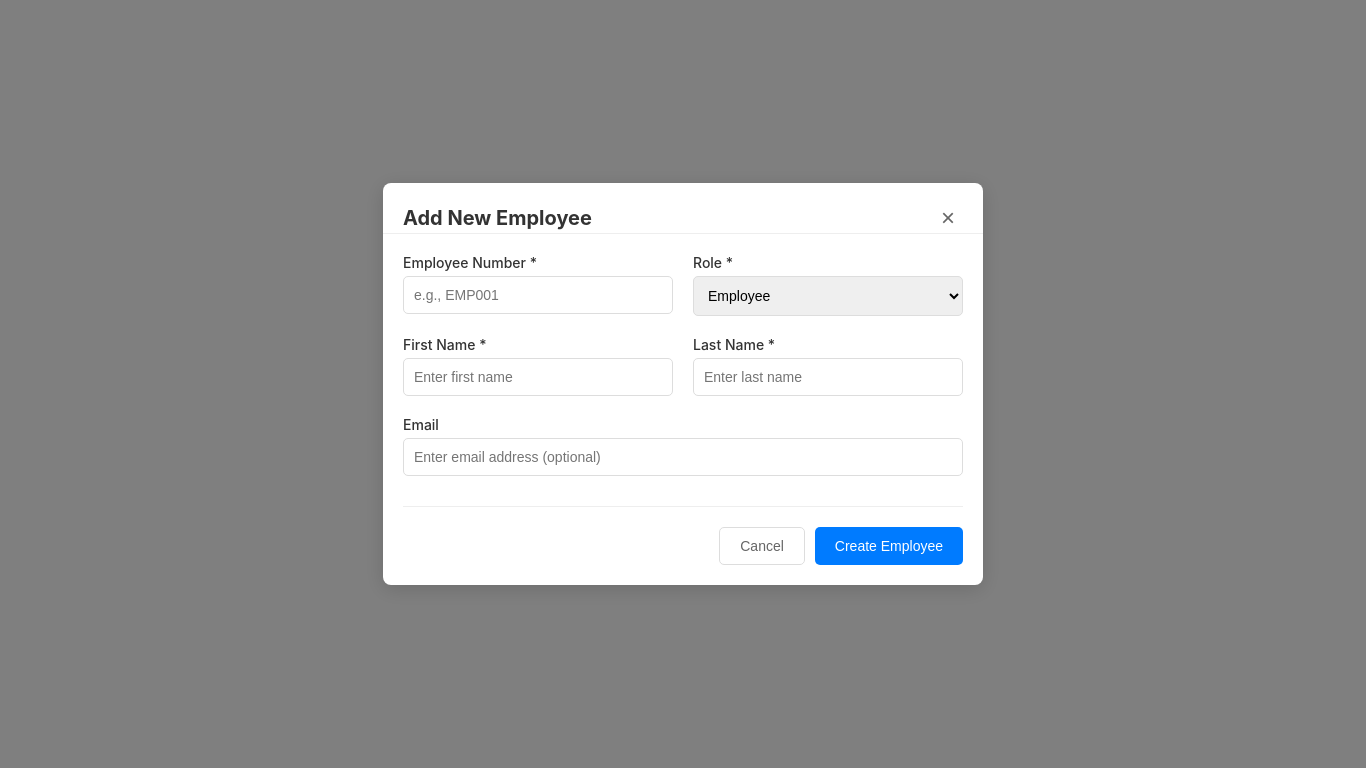
Test case: EmployeeForm › Create Employee Mode › validates required fields
What coordinates should you click on to do the following:
click the button "Create Employee"
I would click on:
 (889, 546)
Its box is [815,527,963,565].
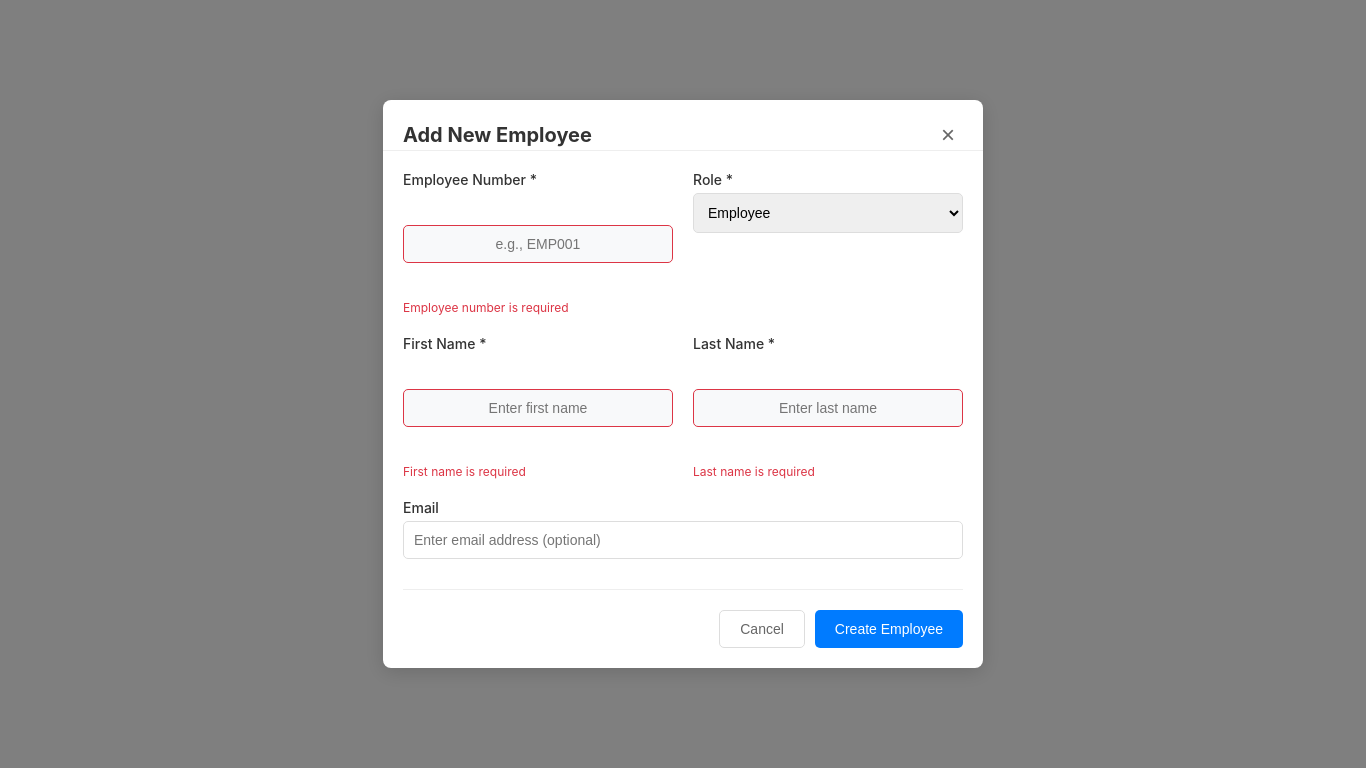
Check: the text "Employee number is required" is shown, box [403,300,569,315]
Check: the text "First name is required" is shown, box [403,464,526,479]
Check: the text "Last name is required" is shown, box [693,464,815,479]
